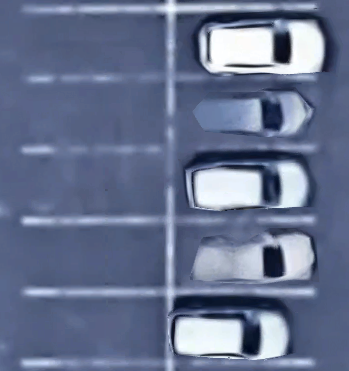Occupied: (170, 6, 315, 77), (171, 148, 314, 219), (171, 220, 314, 291), (172, 292, 314, 363), (171, 77, 314, 147)
Vacant: (22, 219, 170, 292), (21, 76, 170, 148), (21, 148, 170, 220), (21, 291, 170, 363), (22, 6, 172, 77)
